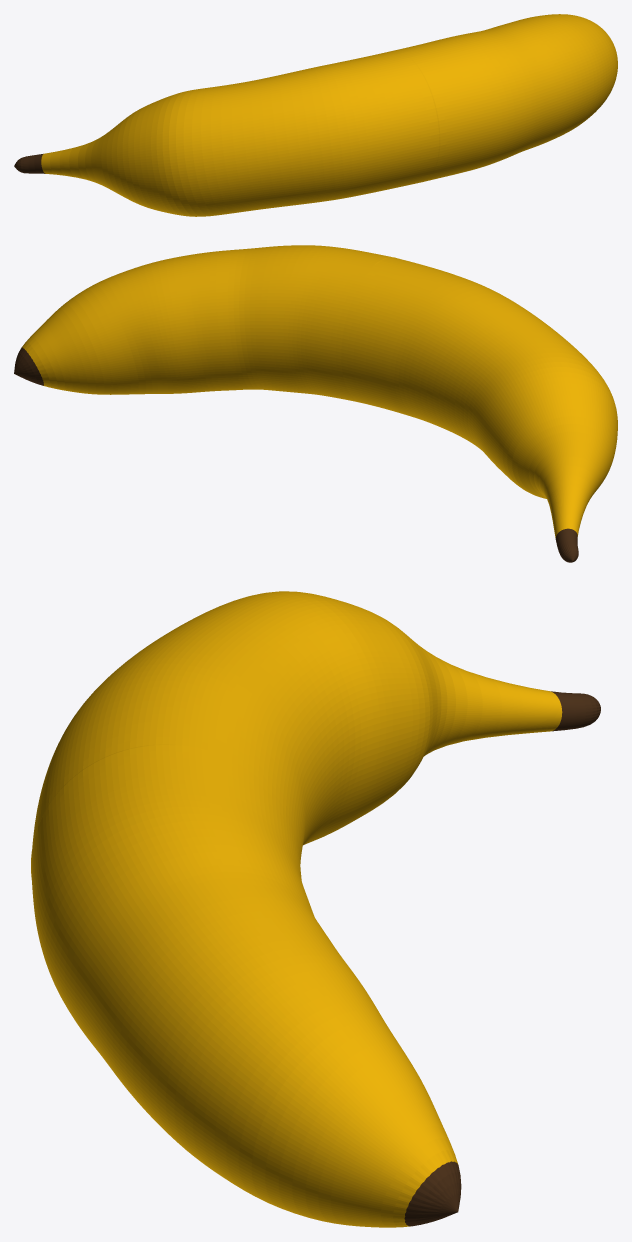
File: banana.fbx
3 renders of one model, top to bottom at view 1: azimuth 30°, elevation 25°; view 2: azimuth 150°, elevation 25°; view 3: azimuth 270°, elevation 25°, orthographic. The views are drawn at different scales.
Visible parts, largest first — view 1: Circle; view 2: Circle; view 3: Circle.
Part boxes in pixels (x1=…): Circle: x1=14, y1=14, x2=617, y2=216; Circle: x1=14, y1=245, x2=617, y2=562; Circle: x1=31, y1=591, x2=600, y2=1227.
Size of the model in its own units: 839 by 199 by 380.
